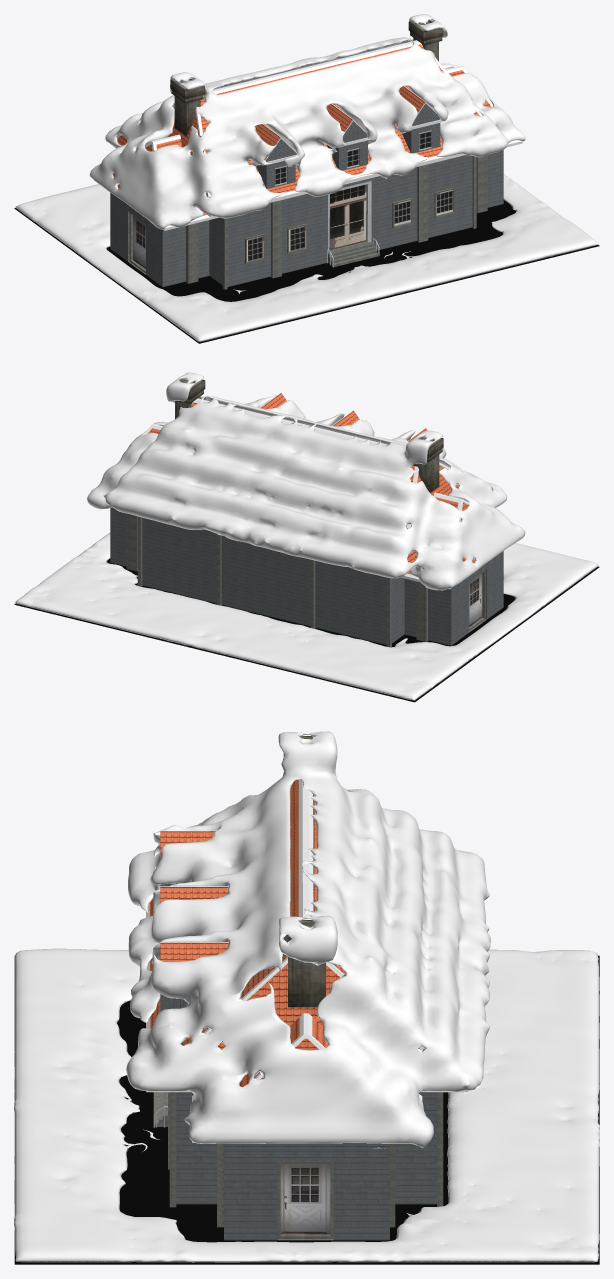
File: House_S10P1.glb
3 renders of one model, top to bottom at view 1: azimuth 30°, elevation 25°; view 2: azimuth 150°, elevation 25°; view 3: azimuth 270°, elevation 25°, orthographic. The views are drawn at different scales.
Parts seen in each view (by area): view 1: SnowMesh, House1, Plane; view 2: SnowMesh, House1, Plane; view 3: SnowMesh, House1, Plane.
Boxes of the visible parts, x1,y1,x2,y2 form: SnowMesh: (15, 14, 598, 341); House1: (110, 20, 522, 289); Plane: (14, 200, 599, 343); SnowMesh: (15, 372, 598, 700); House1: (110, 379, 503, 647); Plane: (14, 558, 599, 702); SnowMesh: (14, 731, 599, 1262); House1: (146, 736, 467, 1240); Plane: (14, 955, 599, 1264).
Size of the model in its own units: 10.01 by 4.27 by 8.01.
Materials: 12 (9 with a texture image).
